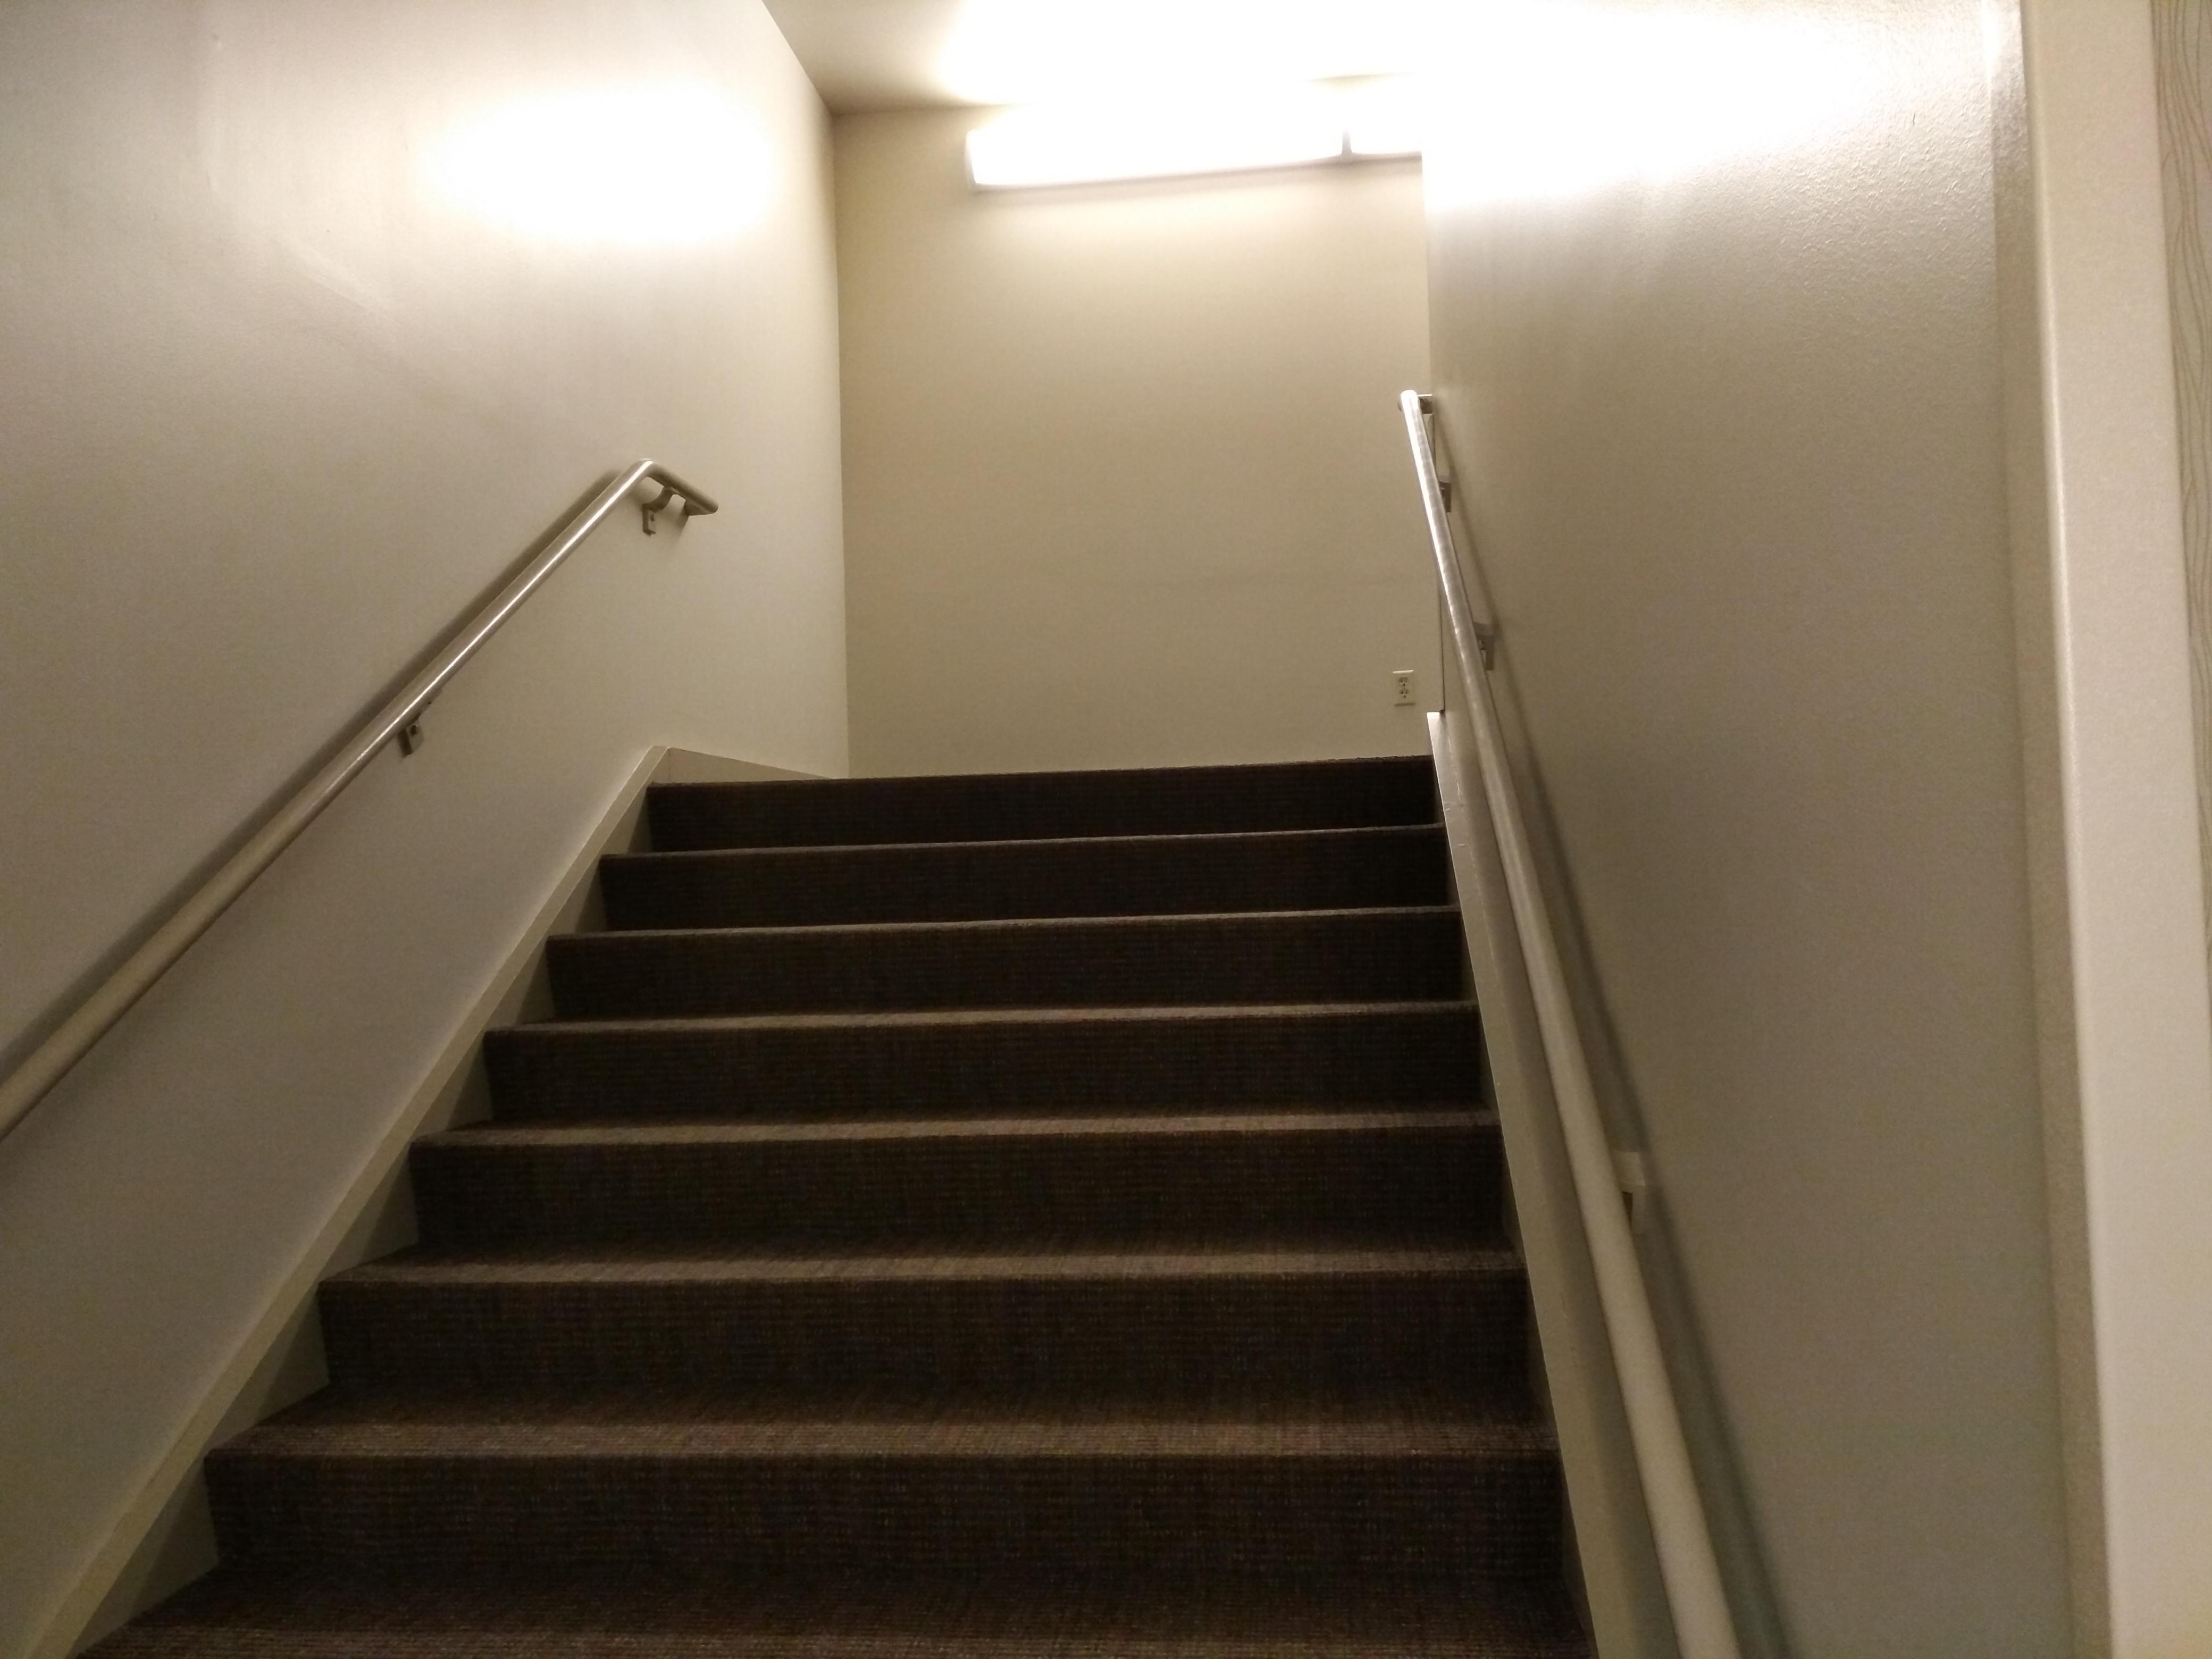stairs_up: (40, 741, 1723, 1591)
